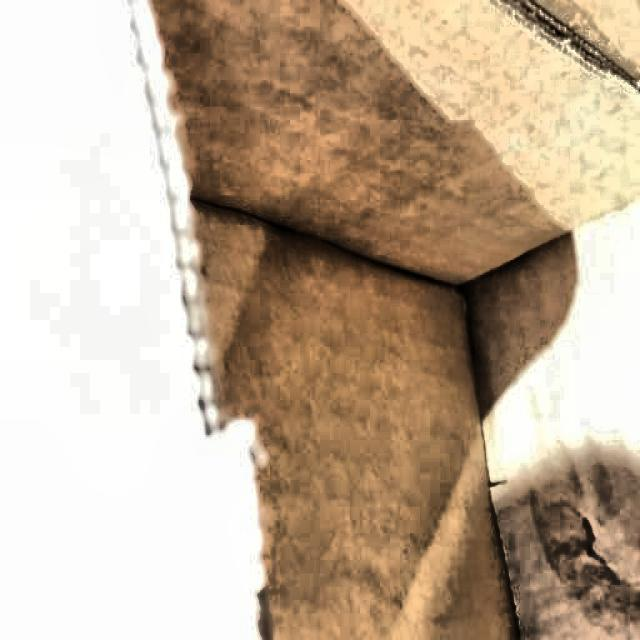cardboard: (112, 6, 639, 640)
